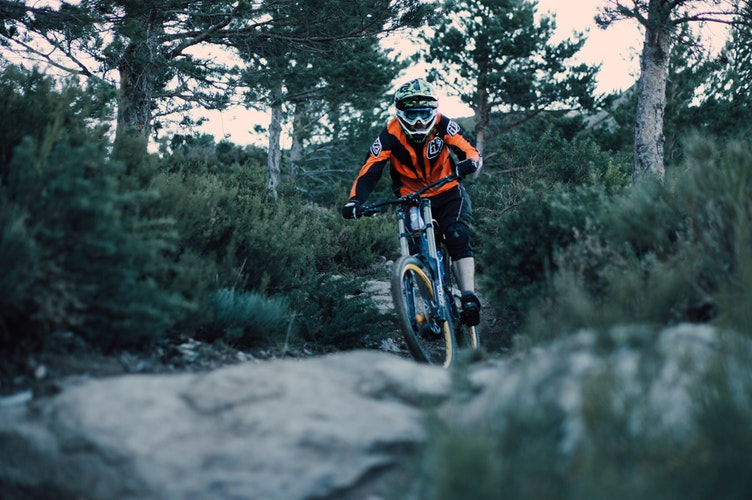helmet: (390, 78, 441, 138)
